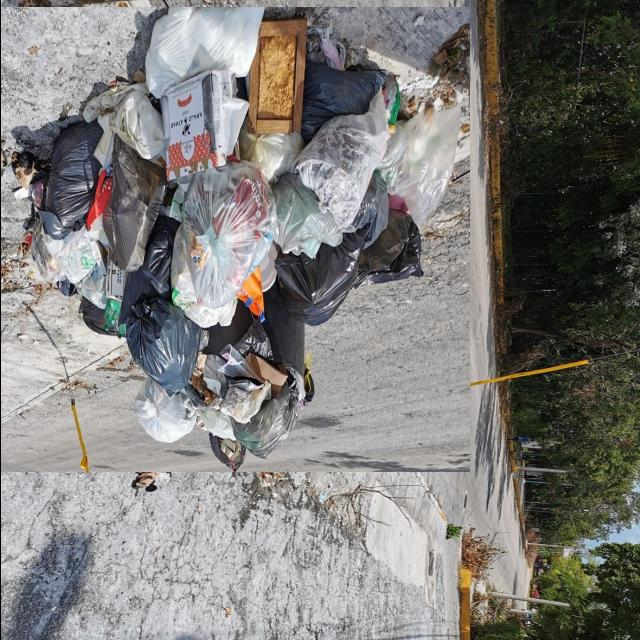garbage: (0, 6, 469, 474)
